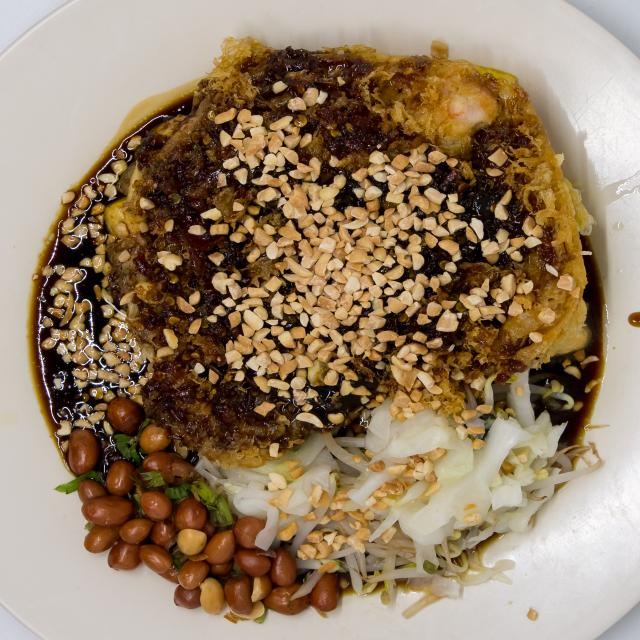Tahu-Telur: (28, 29, 609, 614)
